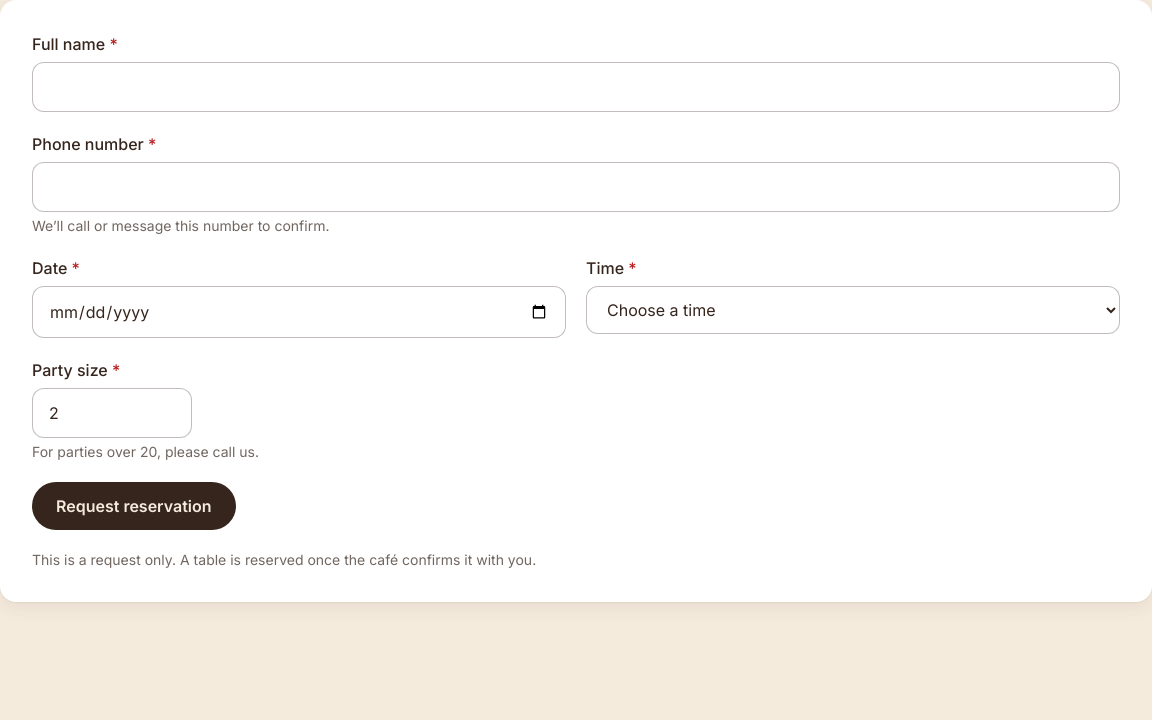
Test: ReservationForm › blocks an empty submission with field errors and makes no request
This screenshot has width=1152, height=720.
Click the button "Request reservation" at (134, 506), box [32,482,236,530]
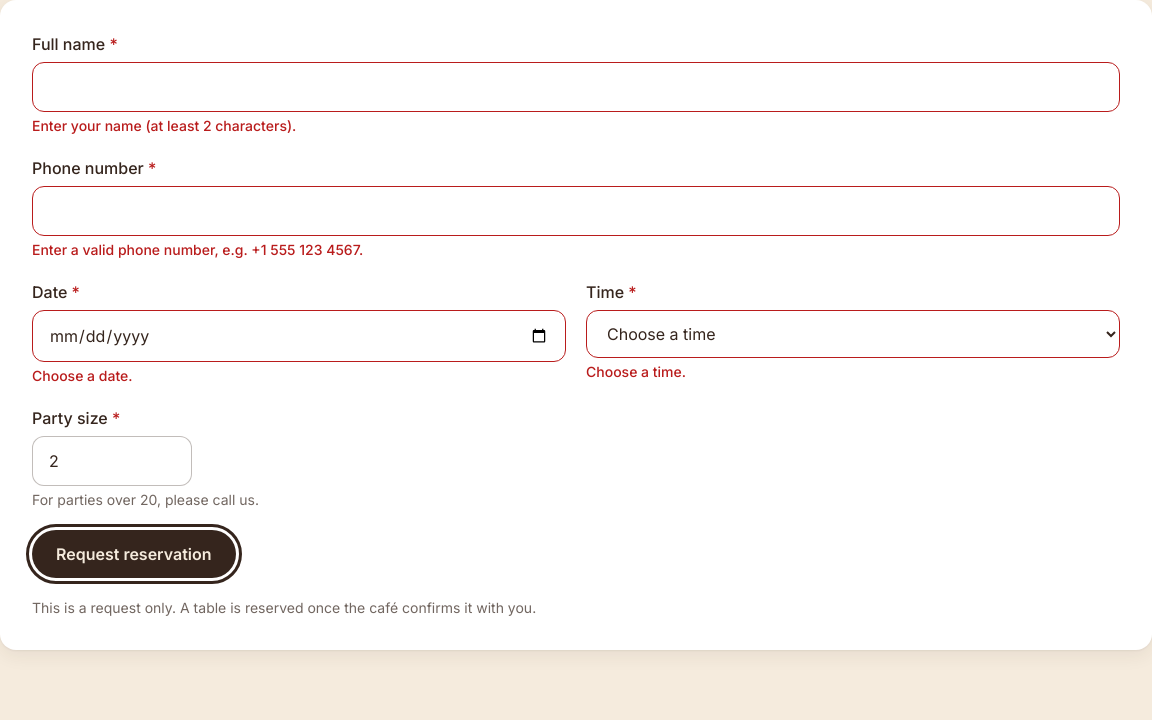
Expected: the text "Enter your name (at least 2 characters)." is shown, [32,117,296,134]
Expected: the text "Enter a valid phone number, e.g. +1 555 123 4567." is shown, [32,241,363,258]
Expected: the text "Choose a date." is shown, [32,367,132,384]
